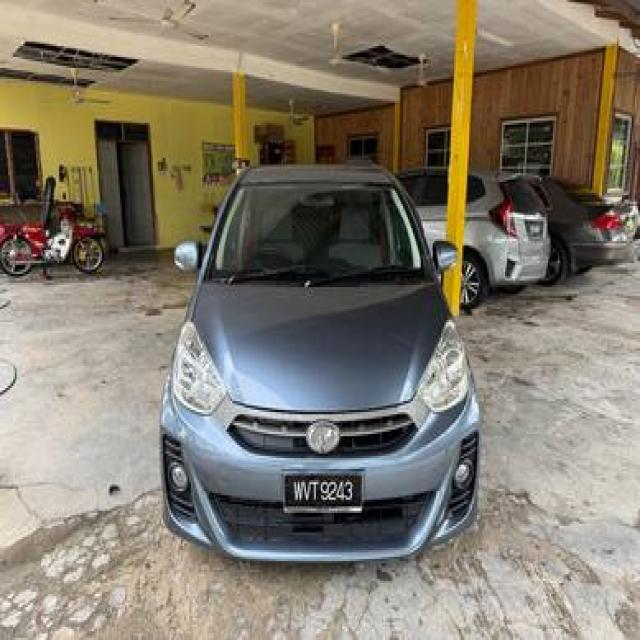PeroduaMyvi: (156, 156, 482, 564)
